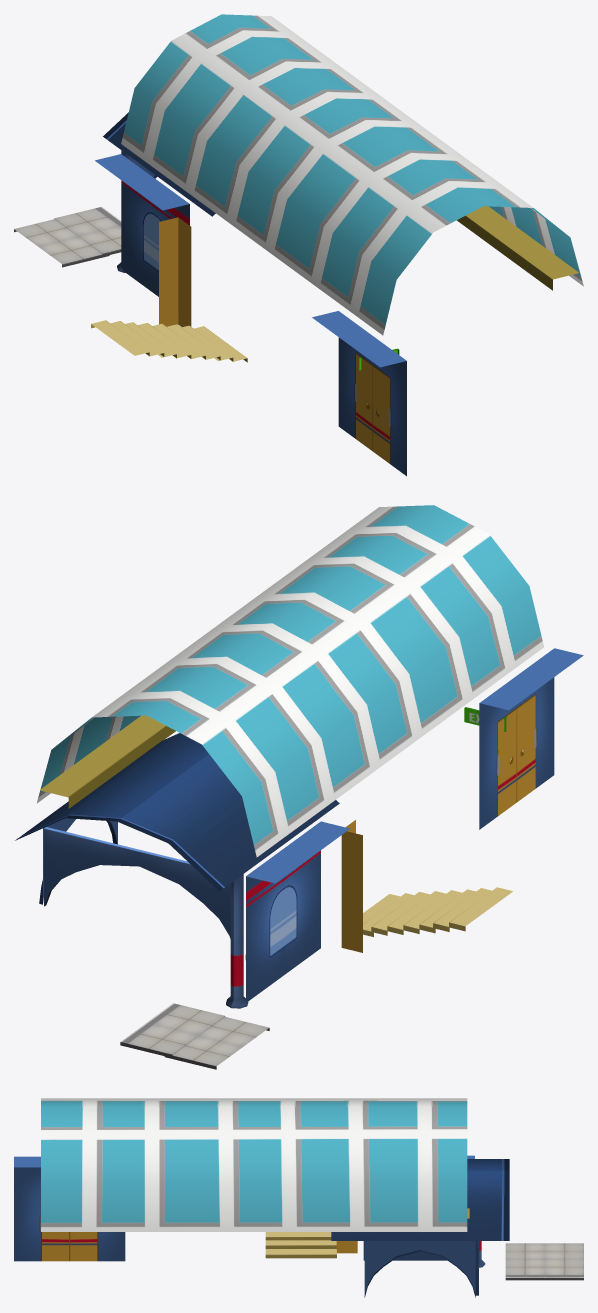
Rendered from Map3.fbx.
3 renders of one model, top to bottom at view 1: azimuth 30°, elevation 25°; view 2: azimuth 150°, elevation 25°; view 3: azimuth 270°, elevation 25°, orthographic. The views are drawn at different scales.
Visible parts, largest first — view 1: Maitren, Tuong2, TUong1, Viahe, Cauthang, Cot2, Maitren2, Maivom; view 2: Maitren, Maivom, Tuong2, TUong1, Tran1, Viahe, Cauthang, Maitren2, Cot2, Cot; view 3: Maitren, Tuong2, Maivom, Viahe, Tran2, Cauthang, TUong1, Cot2.
Boxes of the visible parts, x1,y1,x2,y2 form: Maitren: [121, 14, 583, 335]; Tuong2: [312, 311, 406, 476]; TUong1: [95, 154, 189, 296]; Viahe: [14, 207, 121, 267]; Cauthang: [91, 320, 247, 362]; Cot2: [159, 217, 191, 327]; Maitren2: [457, 206, 578, 290]; Maivom: [103, 112, 215, 216]; Maitren: [36, 505, 543, 857]; Maivom: [15, 733, 339, 891]; Tuong2: [479, 648, 583, 829]; TUong1: [245, 821, 349, 1000]; Tran1: [44, 827, 230, 938]; Viahe: [120, 1003, 269, 1069]; Cauthang: [363, 887, 512, 936]; Maitren2: [40, 715, 175, 808]; Cot2: [341, 820, 362, 952]; Cot: [226, 874, 248, 1008]; Maitren: [41, 1098, 467, 1231]; Tuong2: [14, 1156, 125, 1261]; Maivom: [331, 1159, 509, 1240]; Viahe: [505, 1243, 583, 1280]; Tran2: [364, 1241, 475, 1297]; Cauthang: [265, 1232, 336, 1258]; TUong1: [363, 1155, 474, 1260]; Cot2: [336, 1241, 357, 1253].
Size of the model in its own units: 113 by 82.53 by 221.
